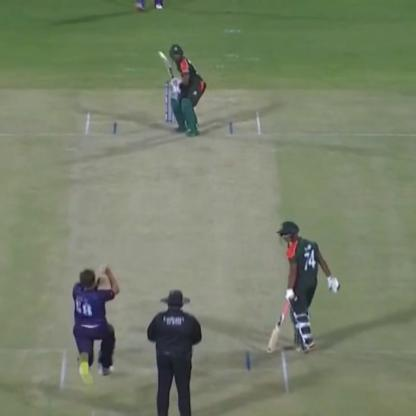ball: (98, 260, 112, 279)
bat: (265, 297, 290, 360), (154, 47, 183, 98)
pitch: (58, 103, 302, 412)
